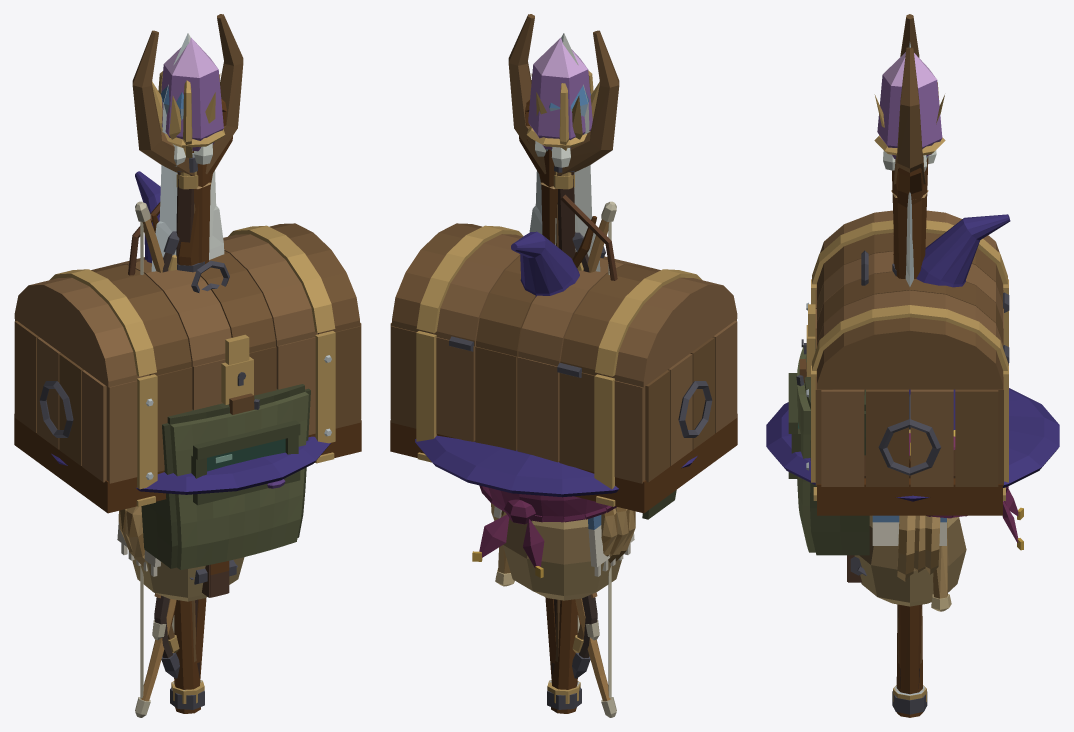
File: items.glb
The picture shows the model from 3 angles, left to right: view 1: azimuth 30°, elevation 25°; view 2: azimuth 150°, elevation 25°; view 3: azimuth 270°, elevation 25°; orthographic projection.
Parts seen in each view (by area): view 1: treasure_chest_lid, treasure_chest, wear_welding_mask, weapon_staff_arcane, wear_wizard_hat, weapon_staff_ember, held_feed_bag, weapon_bow_long, weapon_staff_gnarled, weapon_sword_greatsword, weapon_crossbow_arbalest, weapon_staff_oak (+4 smaller); view 2: treasure_chest, treasure_chest_lid, weapon_staff_arcane, wear_wizard_hat, held_feed_bag, wear_headscarf, weapon_staff_ember, held_rope, weapon_bow_long, weapon_sword_greatsword, weapon_staff_oak, weapon_staff_gnarled (+4 smaller); view 3: treasure_chest_lid, treasure_chest, weapon_staff_arcane, wear_wizard_hat, wear_welding_mask, held_feed_bag, held_rope, weapon_staff_gnarled, held_towel, weapon_staff_ember, wear_headscarf, weapon_crossbow_arbalest.
Boxes of the visible parts, x1,y1,x2,y2 form: treasure_chest_lid: (14,223,359,387); treasure_chest: (14,319,361,513); wear_welding_mask: (141,384,310,569); weapon_staff_arcane: (128,14,243,713); wear_wizard_hat: (51,171,330,494); weapon_staff_ember: (152,73,220,709); held_feed_bag: (132,557,244,601); weapon_bow_long: (135,201,176,717); weapon_staff_gnarled: (151,99,232,684); weapon_sword_greatsword: (159,33,216,241); weapon_crossbow_arbalest: (190,260,237,597); weapon_staff_oak: (158,71,196,662); treasure_chest: (390,319,737,513); treasure_chest_lid: (392,223,737,387); weapon_staff_arcane: (508,14,619,713); wear_wizard_hat: (415,231,697,497); held_feed_bag: (503,519,623,600); wear_headscarf: (472,485,616,577); weapon_staff_ember: (531,73,599,709); held_rope: (491,503,635,586); weapon_bow_long: (575,201,616,717); weapon_sword_greatsword: (535,33,591,251); weapon_staff_oak: (549,70,593,661); weapon_staff_gnarled: (519,100,596,684); treasure_chest_lid: (808,210,1007,389); treasure_chest: (801,279,1009,515); weapon_staff_arcane: (874,14,945,717); wear_wizard_hat: (766,214,1059,501); wear_welding_mask: (788,339,869,555); held_feed_bag: (854,515,966,606); held_rope: (897,515,951,611); weapon_staff_gnarled: (891,155,928,717); held_towel: (872,515,946,545); weapon_staff_ember: (874,94,944,714); wear_headscarf: (909,433,1023,550); weapon_crossbow_arbalest: (847,250,868,582).
Size of the model in its own units: 0.998 by 2.43 by 0.9454.
